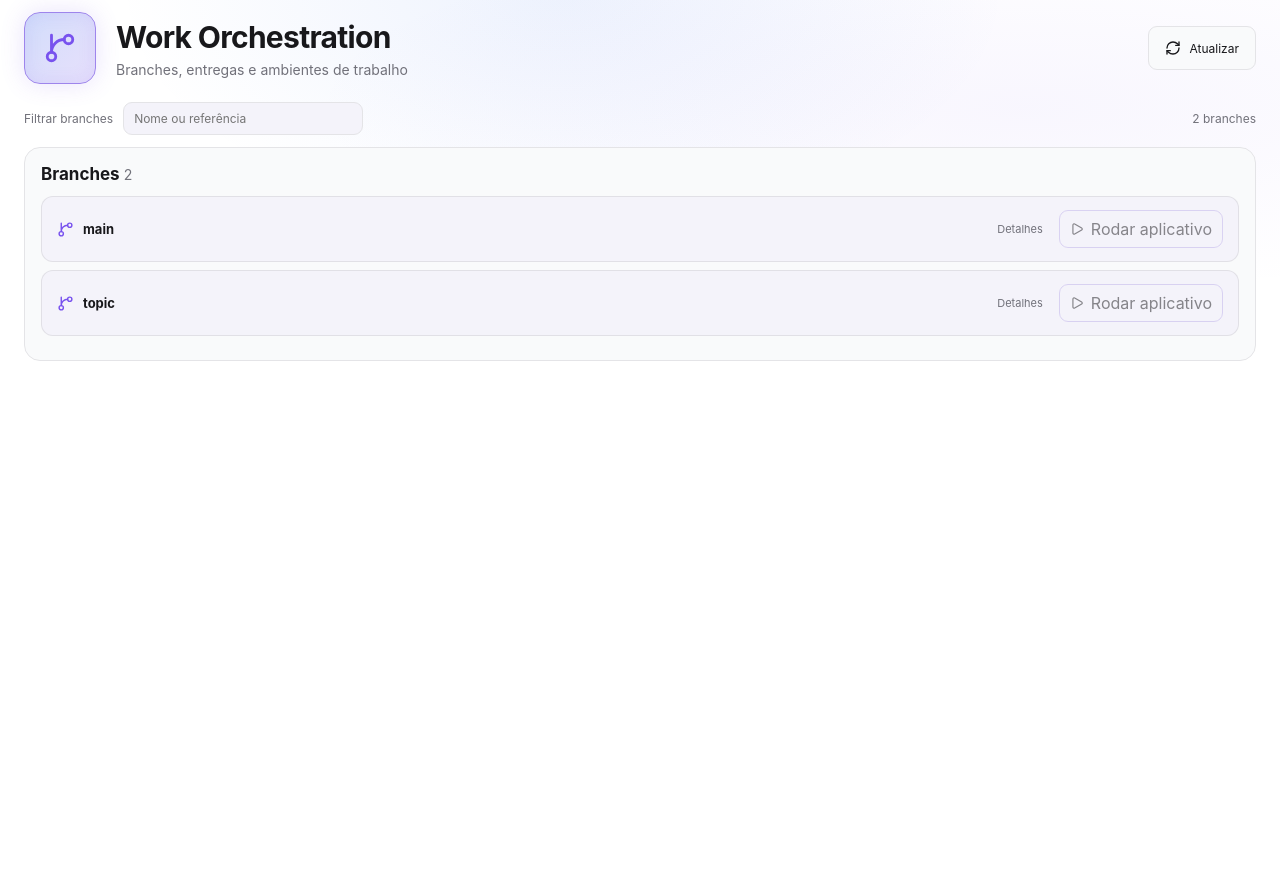
Test: renders local branches before GitHub resolves, preserves unknown creation and exposes offline coverage
The image size is (1280, 892).
Click the text "topic". click: click(99, 303)
box: [83,295,115,311]
(page scrolled)
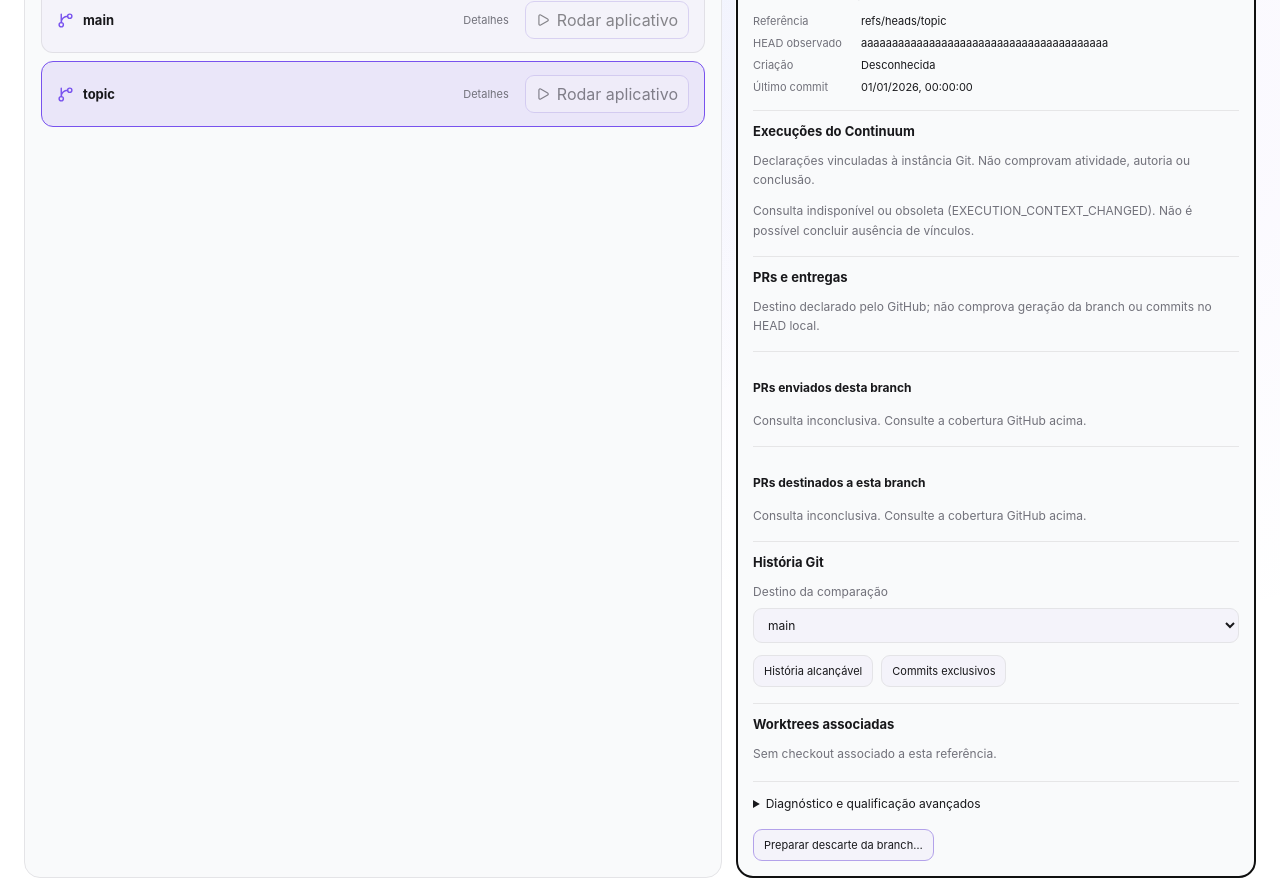
Expected: the text "Sem checkout associado a esta referência." is shown, [753,746,997,760]
